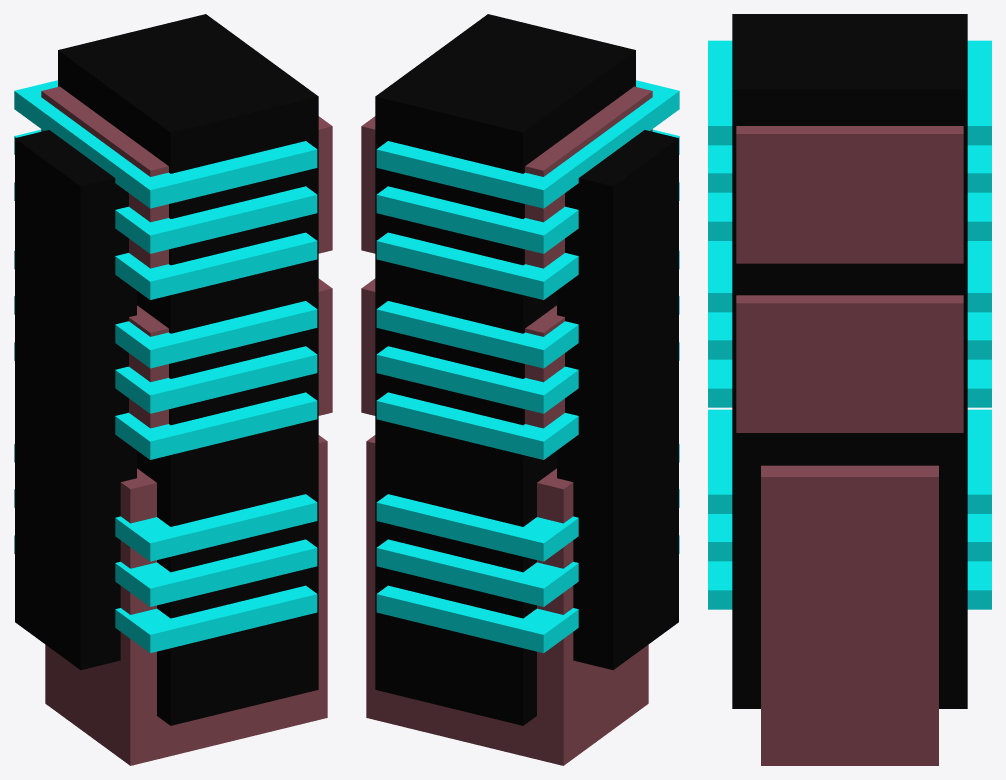
File: building 2.fbx
The picture shows the model from 3 angles, left to right: view 1: azimuth 30°, elevation 25°; view 2: azimuth 150°, elevation 25°; view 3: azimuth 270°, elevation 25°; orthographic projection. The views are drawn at different scales.
Visible parts, largest first — view 1: pCube21, pCube43, pCube26, pCube25, pCube34, pCube33, pCube32, pCube24, pCube31, pCube30, pCube29, pCube23 (+2 smaller); view 2: pCube21, pCube43, pCube26, pCube25, pCube34, pCube33, pCube32, pCube24, pCube31, pCube30, pCube29, pCube23 (+2 smaller); view 3: pCube21, pCube26, pCube27, pCube28, pCube25, pCube34, pCube31, pCube32, pCube23, pCube29, pCube24, pCube30 (+1 smaller).
Part boxes in pixels (x1,y1,x2,y2): pCube21: [58, 14, 318, 725]; pCube43: [15, 130, 136, 669]; pCube26: [45, 435, 327, 765]; pCube25: [14, 80, 317, 208]; pCube34: [14, 444, 317, 561]; pCube33: [14, 489, 317, 606]; pCube32: [14, 535, 317, 653]; pCube24: [14, 129, 317, 253]; pCube31: [14, 250, 317, 368]; pCube30: [14, 296, 317, 413]; pCube29: [14, 342, 317, 459]; pCube23: [14, 182, 317, 299]; pCube21: [375, 14, 635, 725]; pCube43: [557, 130, 678, 669]; pCube26: [366, 435, 648, 765]; pCube25: [376, 80, 679, 208]; pCube34: [376, 444, 679, 561]; pCube33: [376, 489, 679, 606]; pCube32: [376, 535, 679, 653]; pCube24: [376, 129, 679, 253]; pCube31: [376, 250, 679, 368]; pCube30: [376, 296, 679, 413]; pCube29: [376, 342, 679, 459]; pCube23: [376, 182, 679, 299]; pCube21: [732, 14, 967, 708]; pCube26: [761, 465, 938, 765]; pCube27: [736, 126, 963, 263]; pCube28: [736, 295, 963, 432]; pCube25: [708, 40, 991, 145]; pCube34: [708, 409, 991, 513]; pCube31: [708, 241, 991, 312]; pCube32: [708, 561, 991, 609]; pCube23: [708, 192, 991, 240]; pCube29: [708, 359, 991, 407]; pCube24: [708, 145, 991, 192]; pCube30: [708, 312, 991, 359].
Size of the model in its own units: 3.69 by 9.47 by 3.66.
